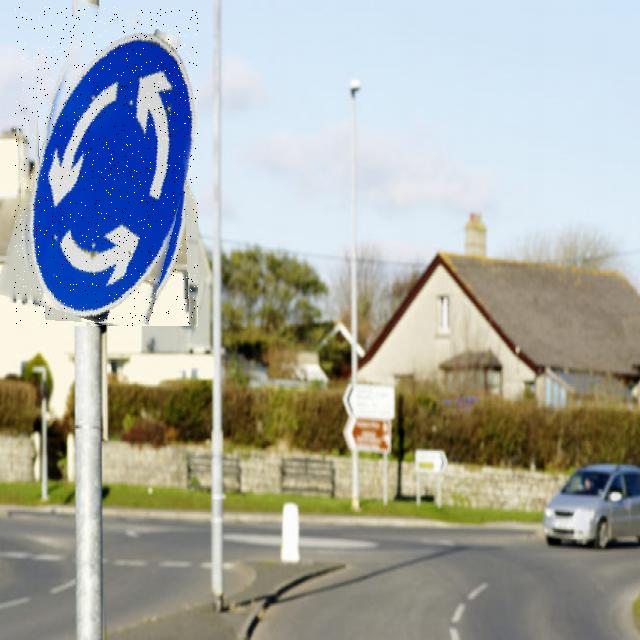roundabout: (14, 7, 198, 326)
